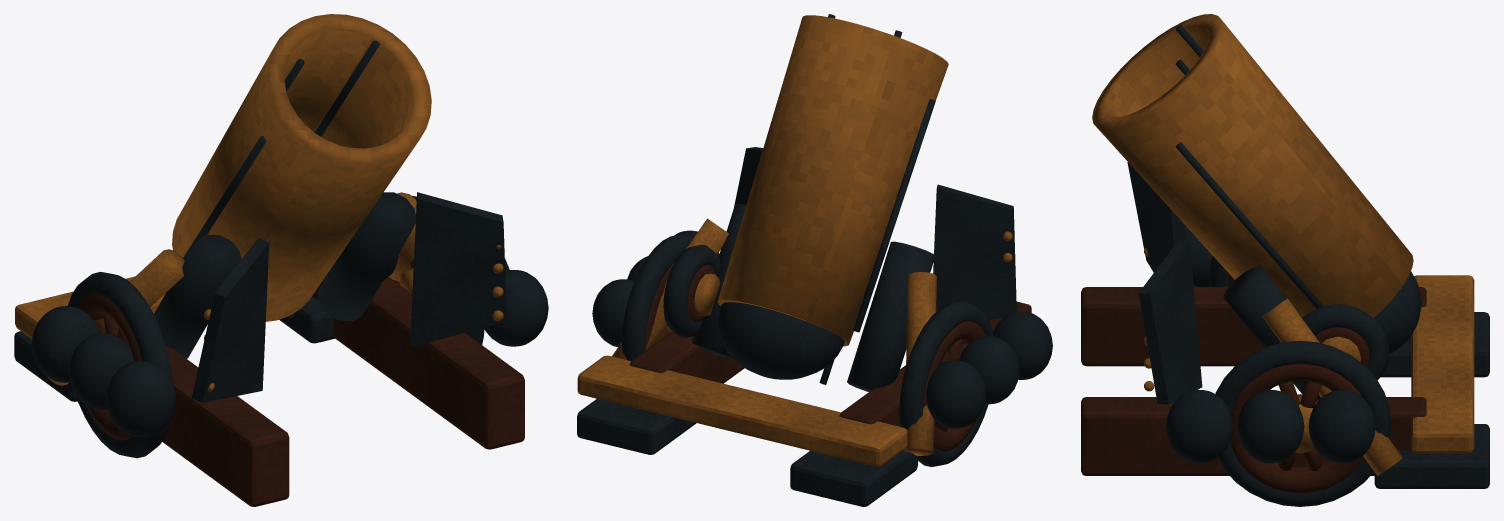
The model's file is mortar-3.glb.
3 views of the same model, side by side, from view 1: azimuth 30°, elevation 25°; view 2: azimuth 150°, elevation 25°; view 3: azimuth 270°, elevation 25° (orthographic). The views are drawn at different scales.
Parts seen in each view (by area): view 1: Turret_Blue iron.002, Carriage_Antique brass.002, Turret_Bound heartwood.002, Turret_Antique brass.002, Carriage_Blue iron.002; view 2: Turret_Blue iron.002, Carriage_Antique brass.002, Turret_Antique brass.002, Carriage_Blue iron.002, Turret_Bound heartwood.002, Winch_Blue iron.002, Winch_Antique brass.002, Winch_Bound heartwood.002; view 3: Carriage_Antique brass.002, Turret_Blue iron.002, Turret_Bound heartwood.002, Turret_Antique brass.002, Carriage_Blue iron.002, Winch_Blue iron.002, Winch_Bound heartwood.002.
Part boxes in pixels (left/top/right/bottom): Turret_Blue iron.002: left=14, top=192, right=548, bottom=458; Carriage_Antique brass.002: left=172, top=14, right=431, bottom=321; Turret_Bound heartwood.002: left=77, top=258, right=524, bottom=506; Turret_Antique brass.002: left=15, top=192, right=503, bottom=391; Carriage_Blue iron.002: left=183, top=40, right=379, bottom=317; Turret_Blue iron.002: left=577, top=147, right=1052, bottom=506; Carriage_Antique brass.002: left=717, top=15, right=948, bottom=346; Turret_Antique brass.002: left=577, top=218, right=1012, bottom=466; Carriage_Blue iron.002: left=717, top=14, right=935, bottom=384; Turret_Bound heartwood.002: left=629, top=262, right=1031, bottom=451; Winch_Blue iron.002: left=663, top=244, right=720, bottom=337; Winch_Antique brass.002: left=694, top=273, right=720, bottom=316; Winch_Bound heartwood.002: left=687, top=264, right=715, bottom=322; Carriage_Antique brass.002: left=1092, top=14, right=1413, bottom=317; Turret_Blue iron.002: left=1127, top=162, right=1489, bottom=506; Turret_Bound heartwood.002: left=1081, top=274, right=1426, bottom=493; Turret_Antique brass.002: left=1144, top=248, right=1474, bottom=475; Carriage_Blue iron.002: left=1175, top=24, right=1421, bottom=354; Winch_Blue iron.002: left=1299, top=304, right=1389, bottom=386; Winch_Bound heartwood.002: left=1315, top=327, right=1369, bottom=367.
Size of the model in its own units: 2.28 by 2.15 by 1.95.
3 materials, 3 textured.
